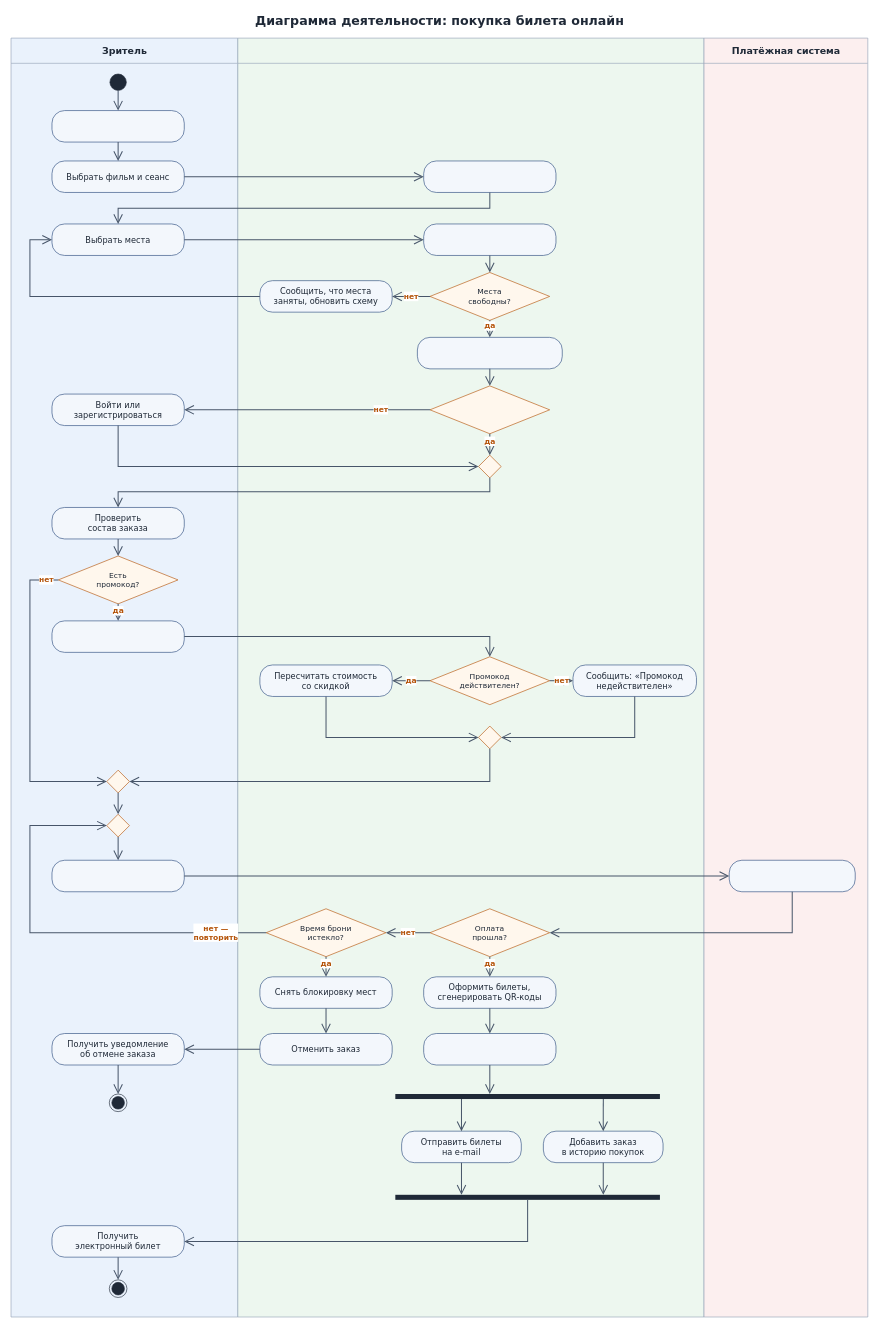
This 879x1328 diagram has some shape labels left out. Each missing label, with the box of its shape:
Ввести данные карты и подтвердить оплату: (51, 860, 184, 892)
Ввести промокод: (51, 620, 184, 652)
Заблокировать места на 15 минут, создать заказ: (417, 337, 562, 369)
Зритель авторизован?: (429, 385, 550, 434)
Обработать платёж: (729, 860, 855, 892)
Открыть афишу: (51, 110, 184, 142)
Отметить места как проданные: (423, 1033, 556, 1065)
Показать схему зала со свободными местами: (423, 160, 556, 192)
Проверить, свободны ли выбранные места: (423, 223, 556, 255)
Система «Киноточка»: (237, 37, 704, 1317)
